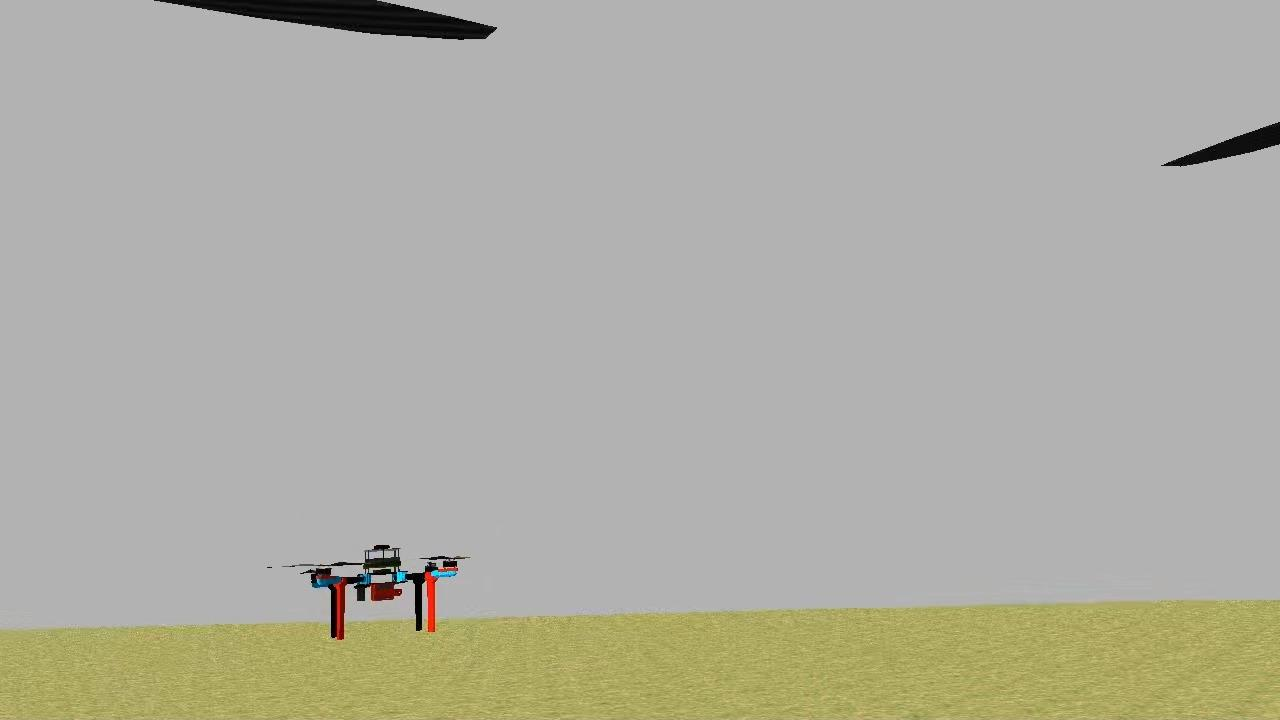UAV: (304, 536, 466, 644)
